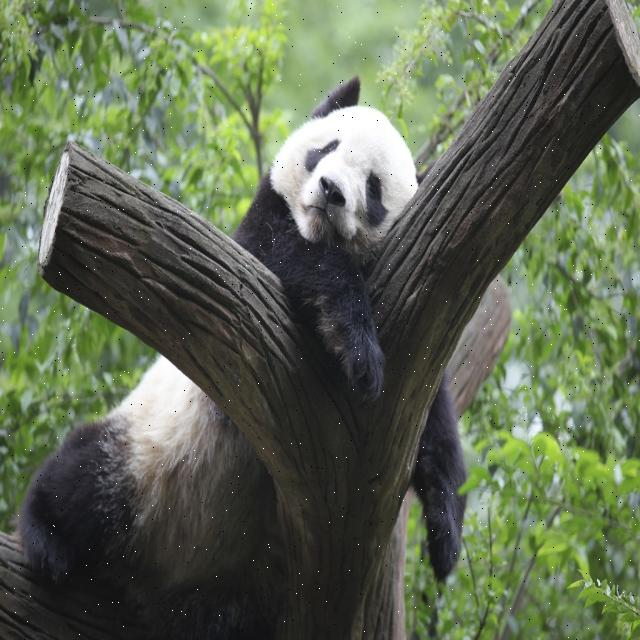panda: (16, 71, 468, 639)
